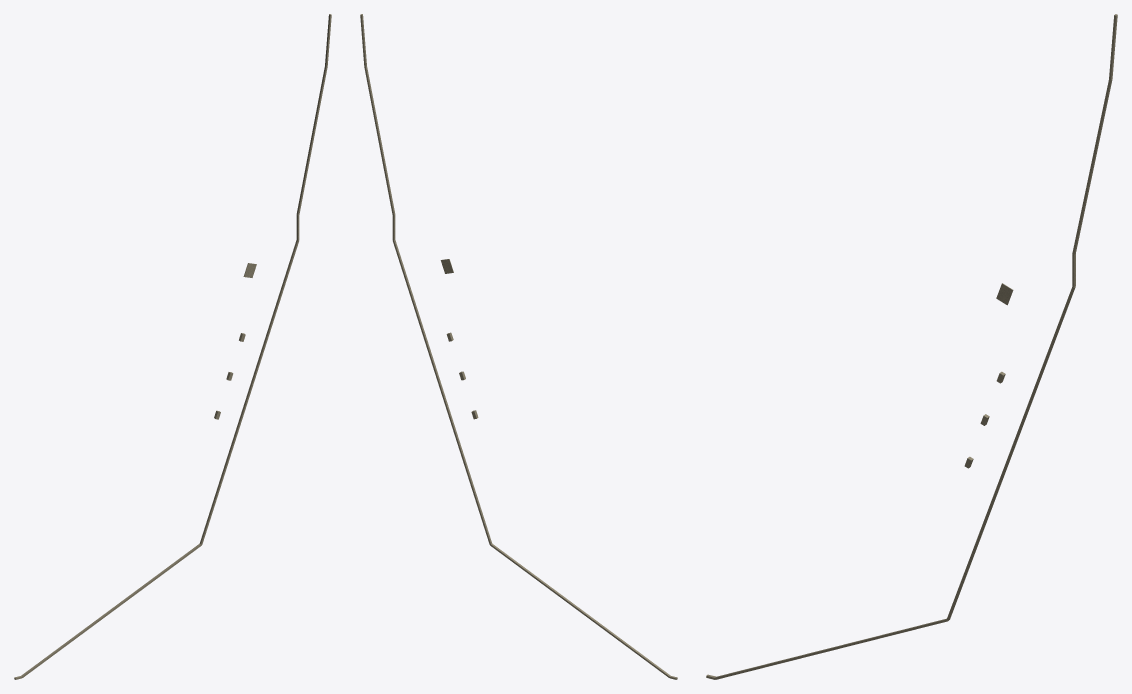
The model's file is gaogongdao_styled_sand.obj.
3 views of the same model, side by side, from view 1: azimuth 30°, elevation 25°; view 2: azimuth 150°, elevation 25°; view 3: azimuth 330°, elevation 25° (orthographic). The views are drawn at different scales.
Parts seen in each view (by area): view 1: harbor; view 2: harbor; view 3: harbor.
Part boxes in pixels (<box>): harbor: <box>14,14,331,679</box>; harbor: <box>360,14,677,679</box>; harbor: <box>706,14,1117,679</box>.
Bounding box in the file's own units: 156 × 278 × 3.11.
1 material, 1 textured.
